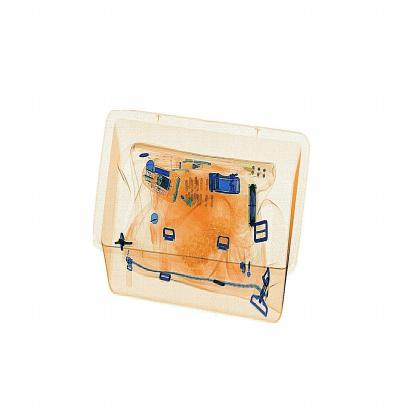scissors: (239, 178, 263, 230)
